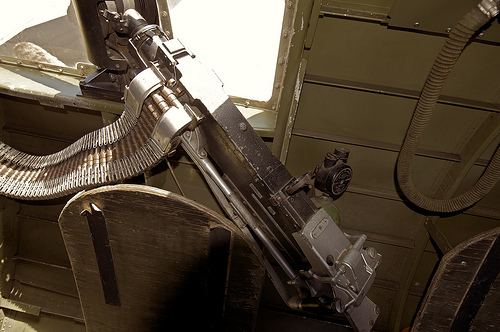rifle: (56, 3, 406, 313)
